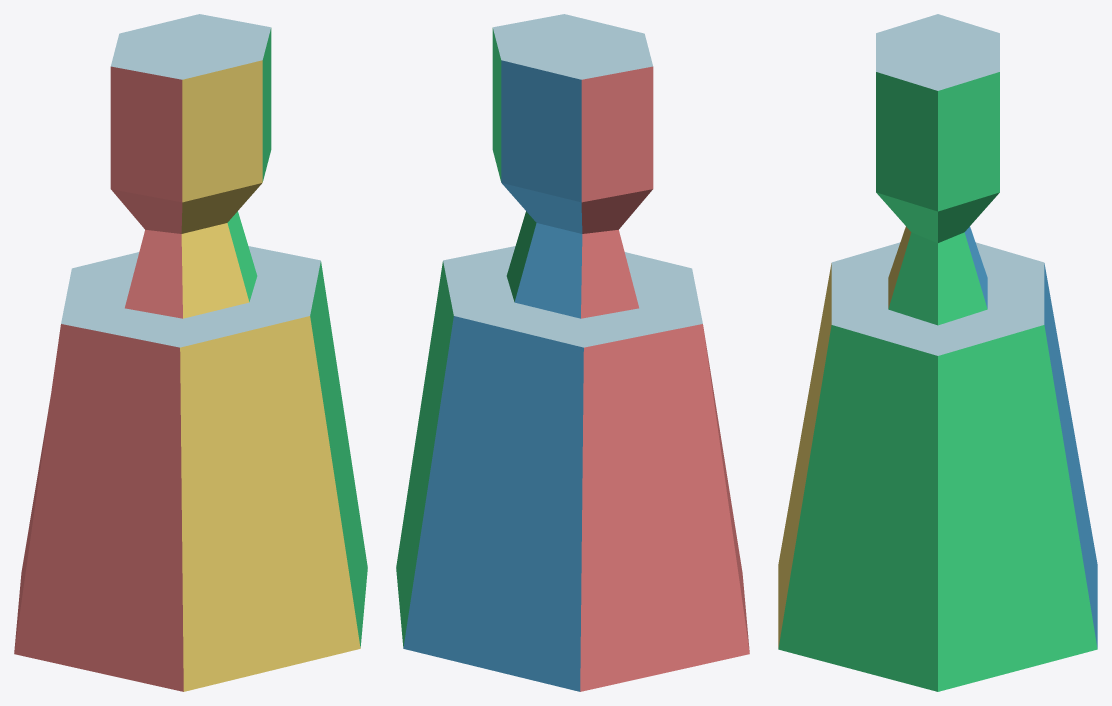
File: weight_s.obj
The picture shows the model from 3 angles, left to right: view 1: azimuth 30°, elevation 25°; view 2: azimuth 150°, elevation 25°; view 3: azimuth 270°, elevation 25°; orthographic projection.
Visible parts, largest first — view 1: cylinder; view 2: cylinder; view 3: cylinder.
Boxes of the visible parts, bbox=[...] form: cylinder: bbox=[14, 14, 367, 691]; cylinder: bbox=[396, 14, 749, 691]; cylinder: bbox=[778, 14, 1097, 691].
Bounding box in the file's own units: 0.0943 × 0.1437 × 0.075.
Materials: 1 (1 with a texture image).
